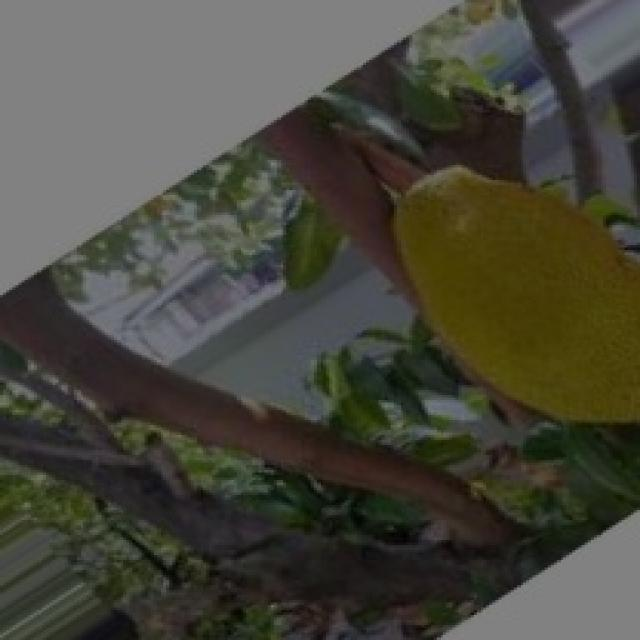Fruit: (351, 145, 640, 470)
